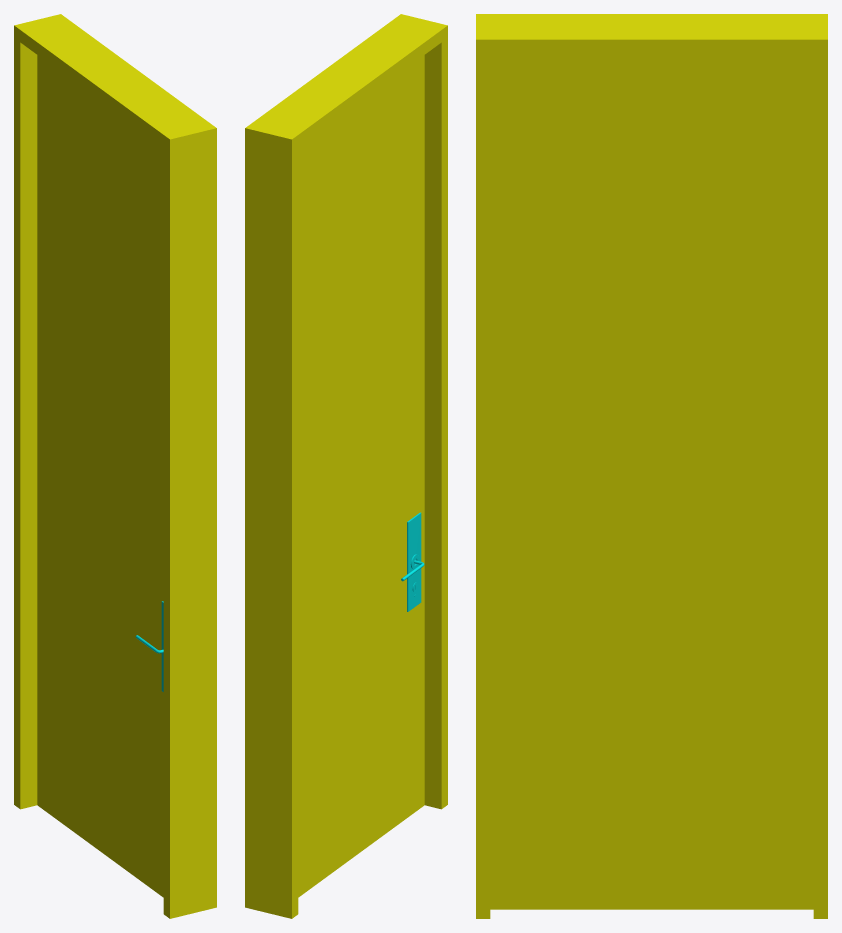
The model's file is Door_Open3.fbx.
3 views of the same model, side by side, from view 1: azimuth 30°, elevation 25°; view 2: azimuth 150°, elevation 25°; view 3: azimuth 270°, elevation 25° (orthographic). The views are drawn at different scales.
Visible parts, largest first — view 1: Door_Open2; view 2: Door_Open2; view 3: Door_Open2.
Boxes of the visible parts, x1=… form: Door_Open2: x1=14, y1=14, x2=216, y2=918; Door_Open2: x1=245, y1=14, x2=447, y2=918; Door_Open2: x1=476, y1=14, x2=827, y2=918.
Bounding box in the file's own units: 19.43 × 309 × 112.
